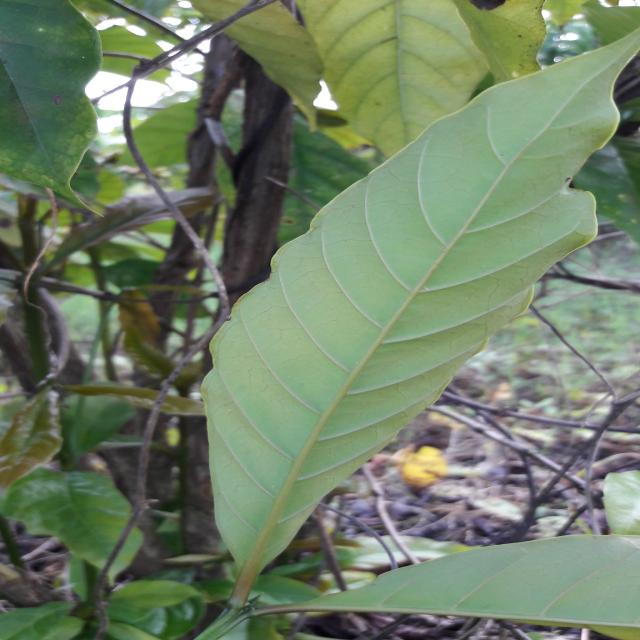Sanas: (201, 30, 640, 609)
